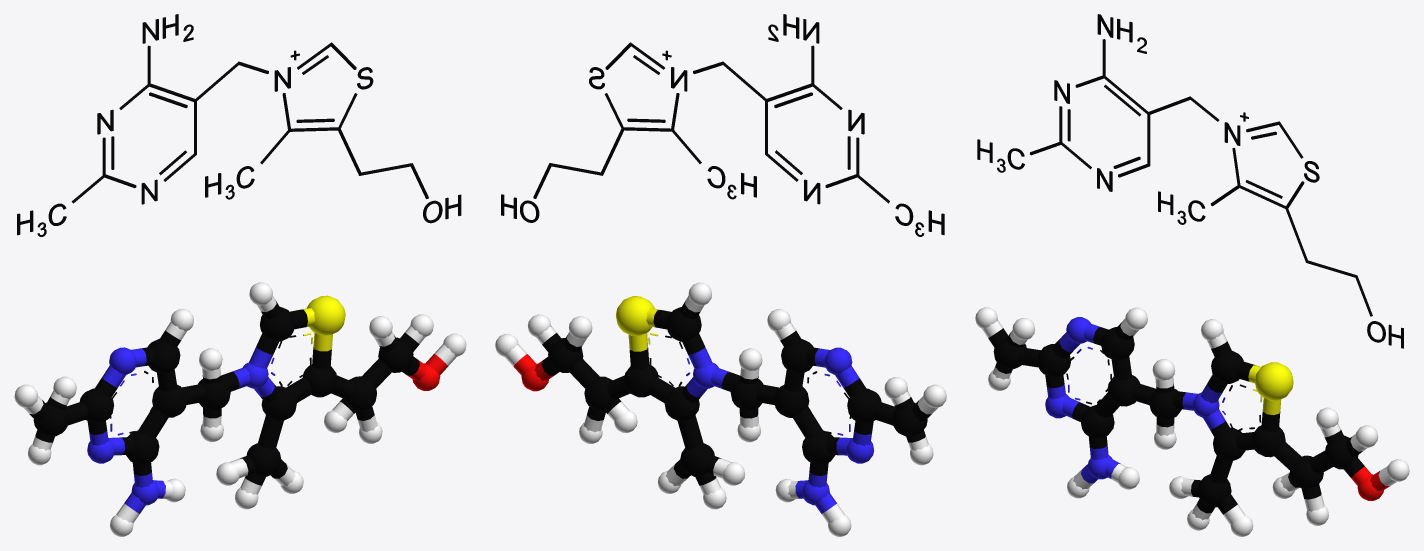
File: vitamin_b.glb
3 views of the same model, side by side, from view 1: azimuth 30°, elevation 25°; view 2: azimuth 150°, elevation 25°; view 3: azimuth 330°, elevation 25° (orthographic). The views are drawn at different scales.
Visible parts, largest first — view 1: Object002_black_0, Box004_white_0, Object004_black_0, Box020_blue_0, Object003_yellow_0, Box022_red_0; view 2: Object002_black_0, Box004_white_0, Object004_black_0, Box020_blue_0, Object003_yellow_0, Box022_red_0; view 3: Object002_black_0, Box004_white_0, Object004_black_0, Box020_blue_0, Object003_yellow_0, Box022_red_0.
Part boxes in pixels (x1,y1,x2,y2): Object002_black_0: [29, 300, 419, 485]; Box004_white_0: [14, 282, 466, 536]; Object004_black_0: [17, 14, 461, 236]; Box020_blue_0: [87, 347, 274, 513]; Object003_yellow_0: [301, 295, 345, 351]; Box022_red_0: [407, 354, 447, 390]; Object002_black_0: [541, 300, 931, 485]; Box004_white_0: [495, 282, 946, 536]; Object004_black_0: [501, 14, 944, 236]; Box020_blue_0: [686, 347, 873, 513]; Object003_yellow_0: [616, 296, 660, 351]; Box022_red_0: [513, 354, 553, 391]; Object002_black_0: [988, 322, 1364, 514]; Box004_white_0: [975, 307, 1409, 536]; Object004_black_0: [977, 14, 1403, 348]; Box020_blue_0: [1045, 317, 1225, 483]; Object003_yellow_0: [1248, 362, 1293, 415]; Box022_red_0: [1351, 466, 1389, 500].
Size of the model in its own units: 0.2606 by 0.2835 by 0.0205.
